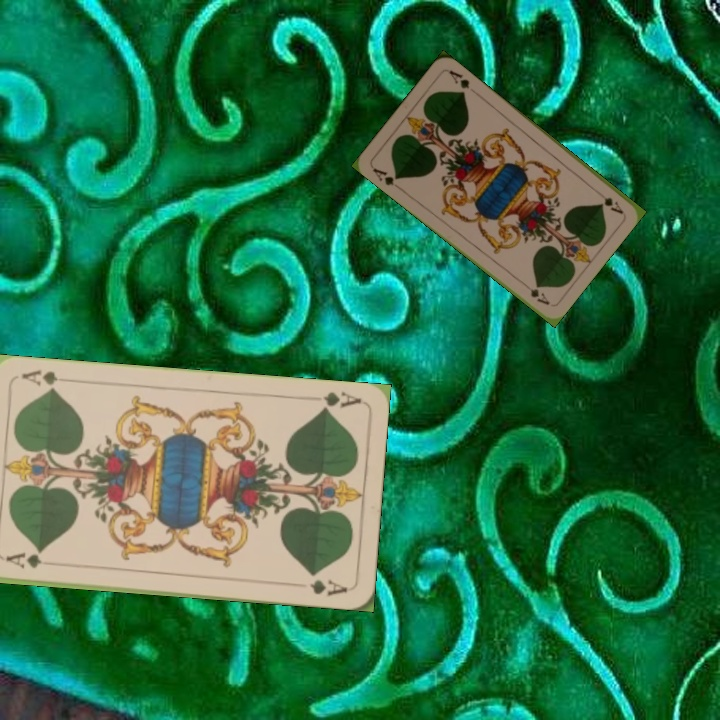GA: (315, 387, 364, 414), (592, 186, 626, 216), (368, 164, 404, 192), (2, 549, 44, 571)
